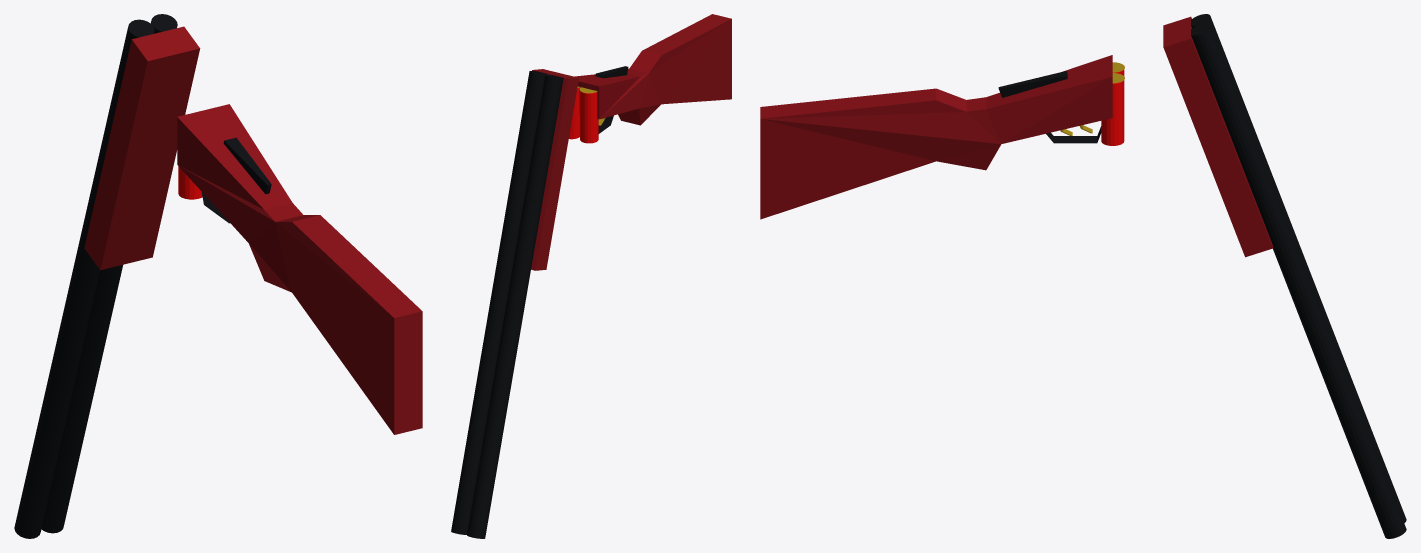
Rendered from double-barreled-shotgun0021.obj.
3 renders of one model, left to right at view 1: azimuth 30°, elevation 25°; view 2: azimuth 150°, elevation 25°; view 3: azimuth 270°, elevation 25°, orthographic. The views are drawn at different scales.
Parts seen in each view (by area): view 1: rearStock, foreGrip, leftBarrel, rightBarrel, topLatch, shellPlastic; view 2: rearStock, leftBarrel, rightBarrel, foreGrip, shellPlastic, shellPlastic2; view 3: rearStock, rightBarrel, foreGrip, leftBarrel, shellPlastic2.
Boxes of the visible parts, x1,y1,x2,y2 form: rearStock: (177,104,422,434); foreGrip: (84,26,200,270); leftBarrel: (14,19,154,538); rightBarrel: (41,14,177,533); topLatch: (223,137,271,194); shellPlastic: (178,166,202,199); rearStock: (575,14,731,125); leftBarrel: (467,74,563,538); rightBarrel: (451,71,547,534); foreGrip: (531,69,578,270); shellPlastic: (580,91,598,143); shellPlastic2: (569,87,579,139); rearStock: (760,55,1112,219); rightBarrel: (1191,23,1406,538); foreGrip: (1163,16,1272,257); leftBarrel: (1191,14,1406,522); shellPlastic2: (1101,80,1124,145).
Bounding box in the file's own units: 0.2057 × 2.21 × 2.54.
